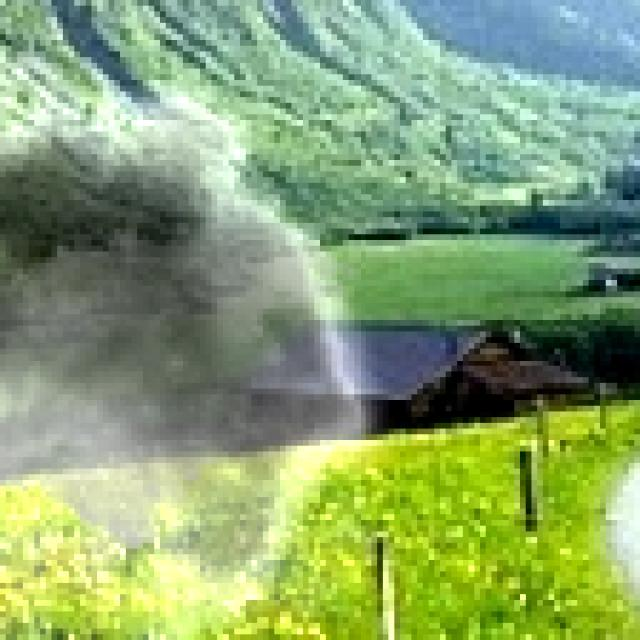smoke: (0, 5, 417, 640)
